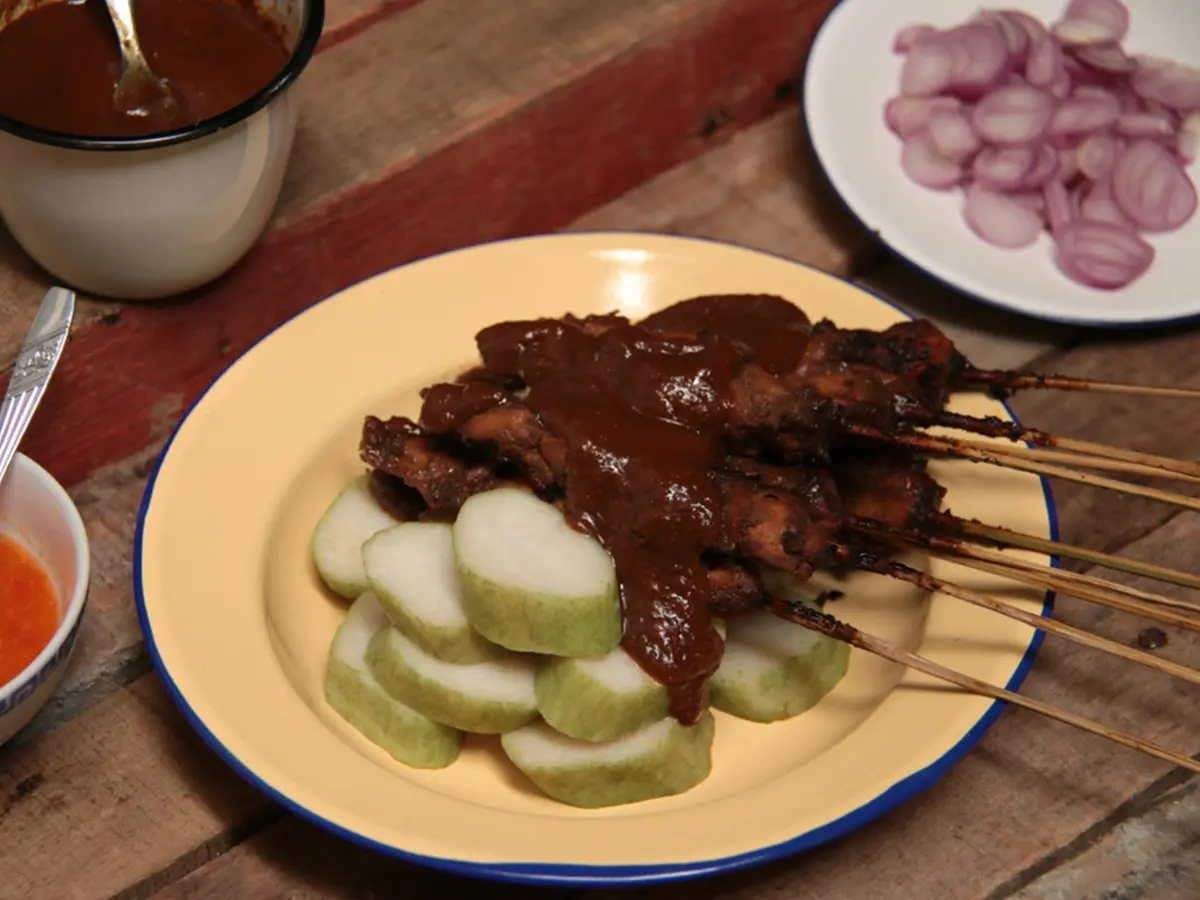sate: (355, 271, 1005, 727)
